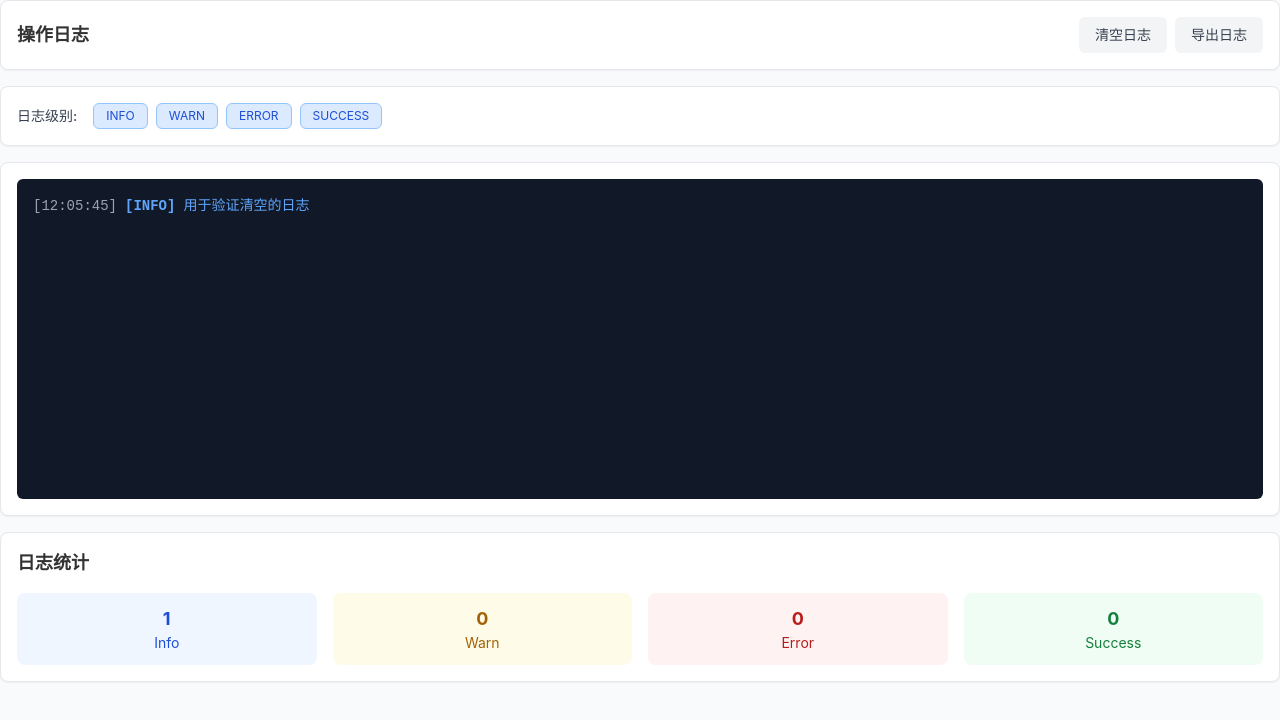
Test: LogViewer › removes rendered log entries after clicking clear logs
The image size is (1280, 720).
Click the button "清空日志" at (1123, 35), box [1079,17,1167,53]
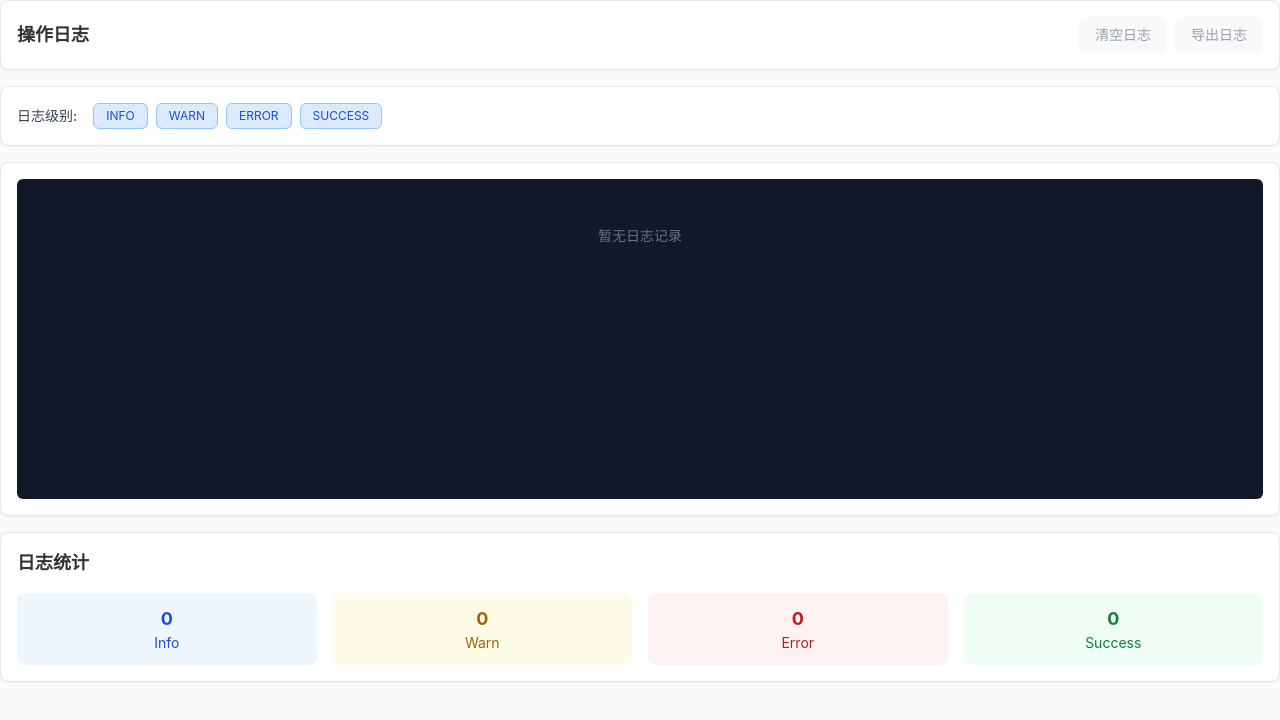
Check: the text "暂无日志记录" is shown, box [598,229,682,245]
Check: the text "用于验证清空的日志" is gone
